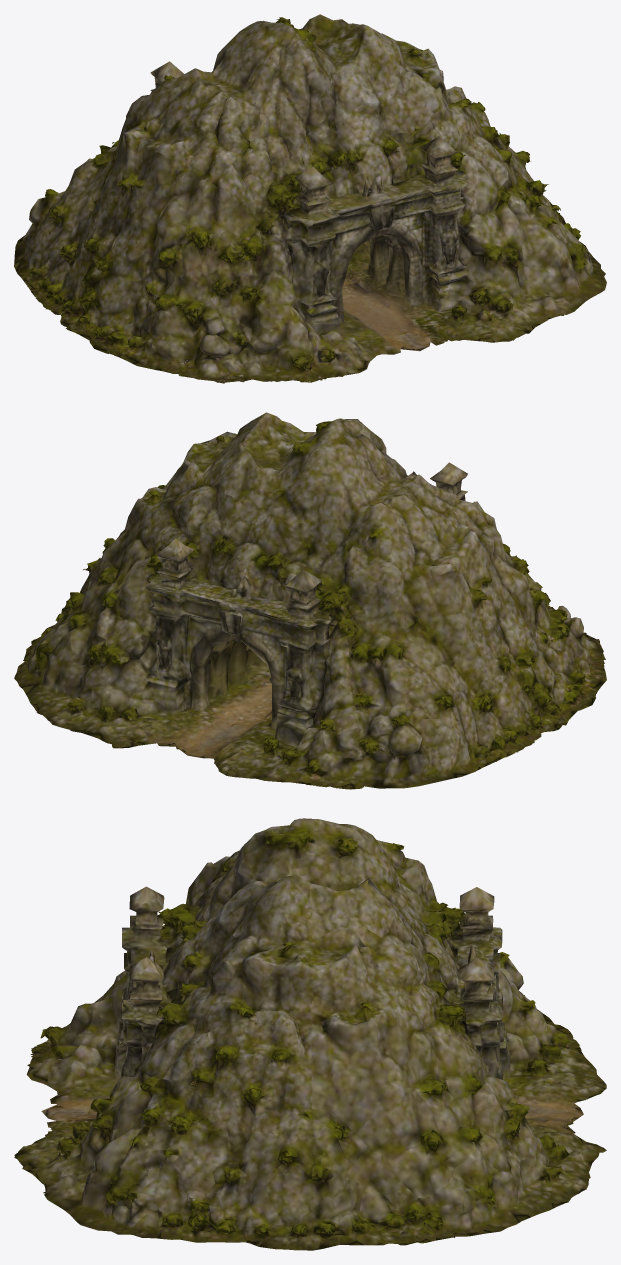
Rendered from mtn_gate.glb.
3 renders of one model, top to bottom at view 1: azimuth 30°, elevation 25°; view 2: azimuth 150°, elevation 25°; view 3: azimuth 270°, elevation 25°, orthographic. The views are drawn at different scales.
Visible parts, largest first — view 1: mtn_gate; view 2: mtn_gate; view 3: mtn_gate.
Part boxes in pixels (<box>): mtn_gate: <box>14,14,606,383</box>; mtn_gate: <box>14,412,606,789</box>; mtn_gate: <box>14,818,606,1250</box>.
Bounding box in the file's own units: 189 × 91.32 × 172.
1 material, 1 textured.
